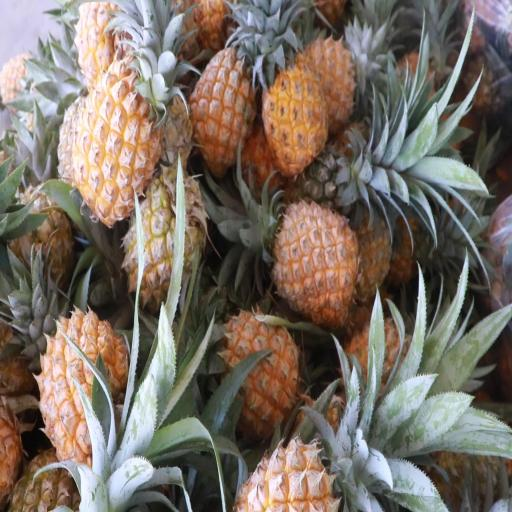------------------------------: (126, 179, 203, 308)
Pineapple - v8 v1: (71, 62, 158, 220), (43, 308, 127, 462), (273, 201, 357, 316), (220, 310, 302, 421), (190, 44, 259, 167), (235, 432, 340, 512), (265, 66, 330, 175)
